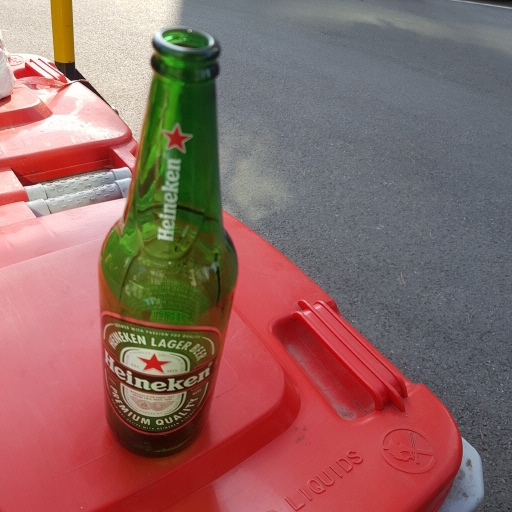Glass_1: (100, 26, 240, 458)
